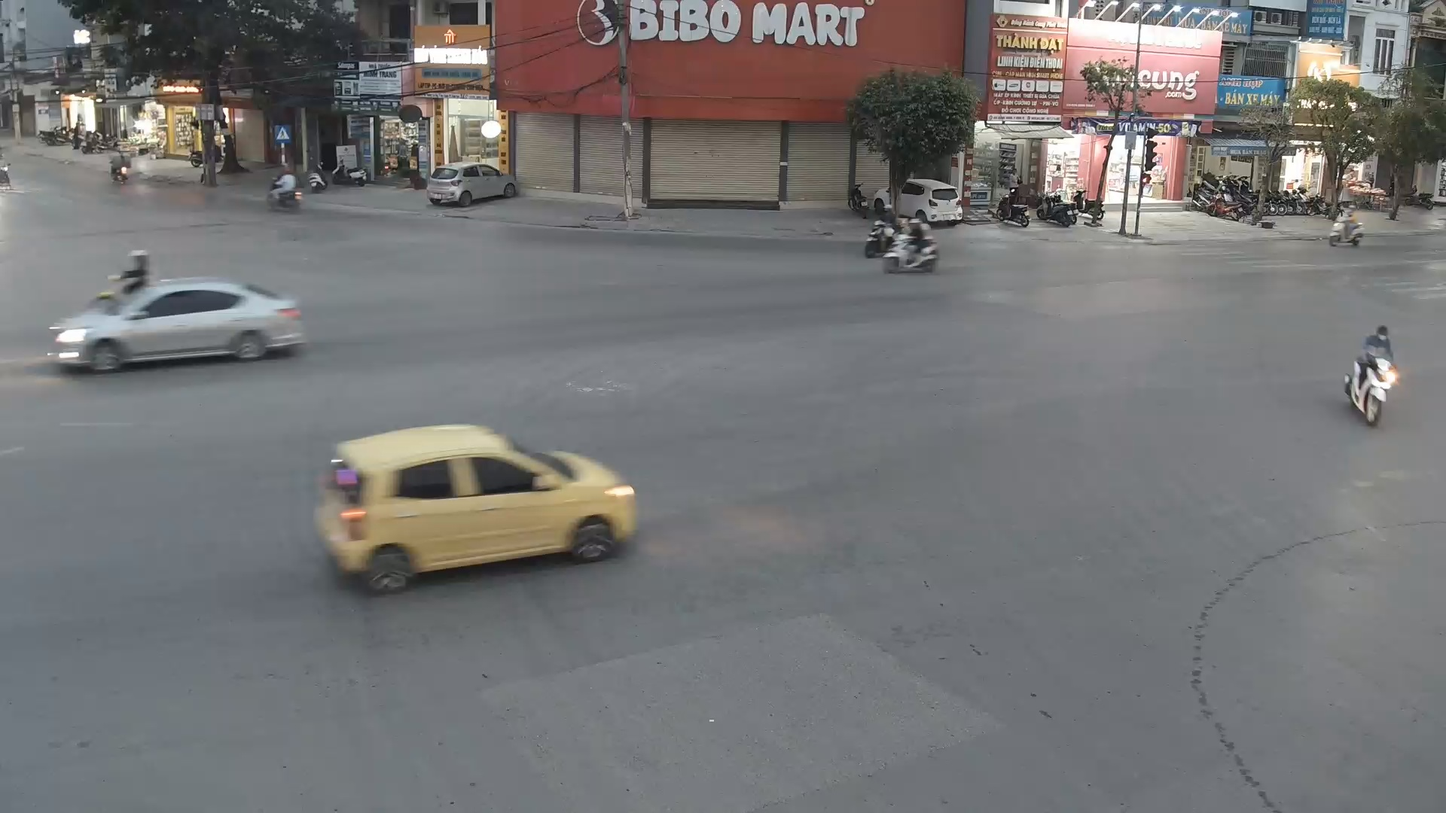car: (312, 424, 642, 588), (47, 274, 309, 376), (426, 162, 520, 212)
motorbike: (1341, 322, 1403, 428), (881, 213, 940, 274)
